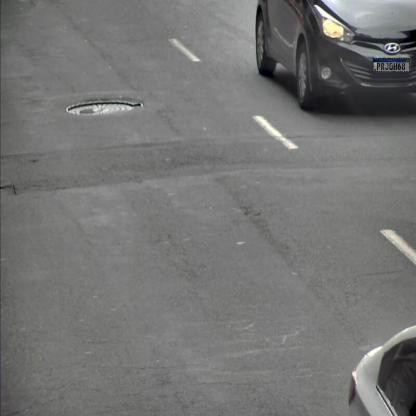PlacaM: (373, 58, 410, 72)
